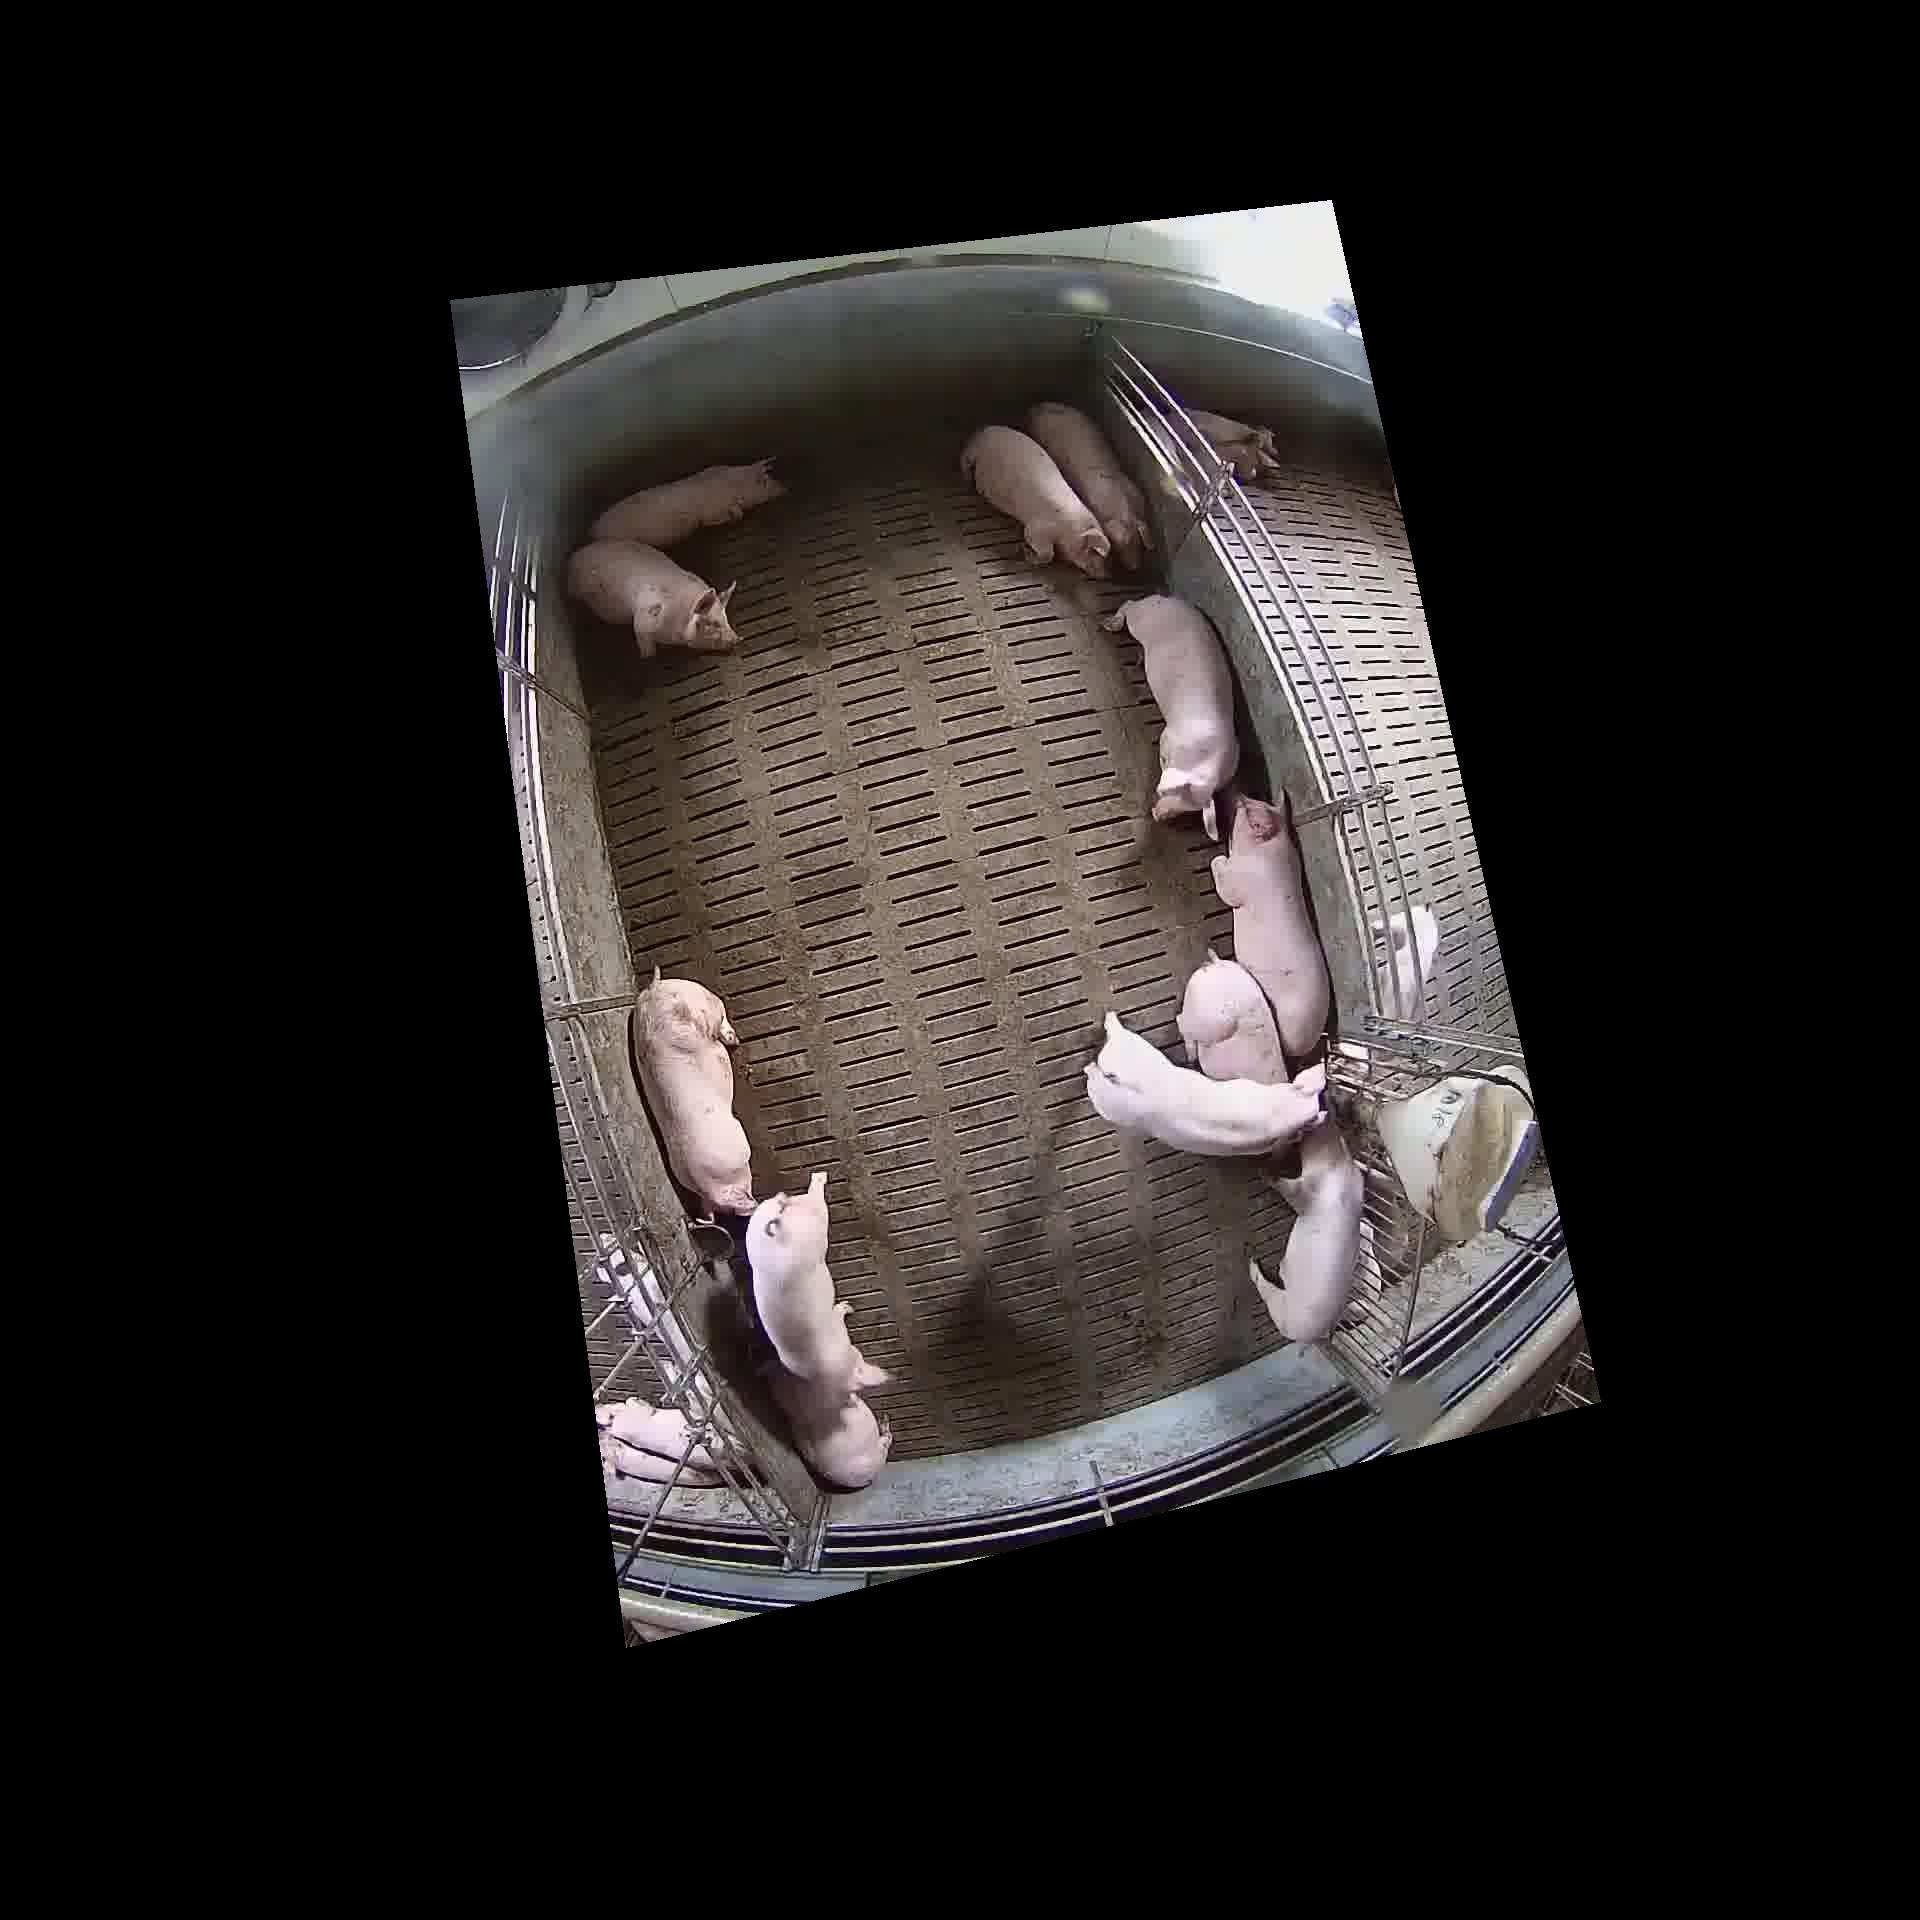pig: (1087, 1013, 1326, 1152), (1102, 594, 1234, 835), (745, 1173, 883, 1391), (1213, 784, 1327, 1037), (633, 971, 747, 1210), (1248, 1102, 1359, 1340), (960, 425, 1106, 573), (568, 536, 737, 656), (1027, 403, 1148, 564), (587, 450, 782, 543), (768, 1359, 886, 1489), (1176, 956, 1285, 1083)
